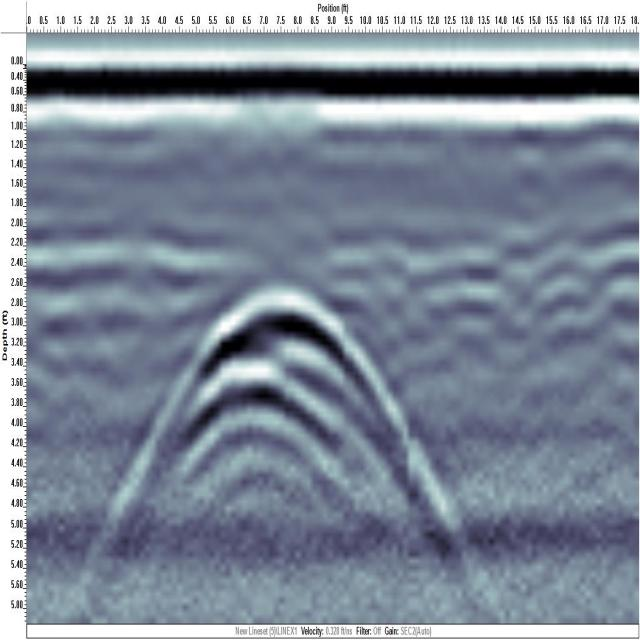hyperbola: (159, 279, 420, 517), (176, 353, 356, 515)
